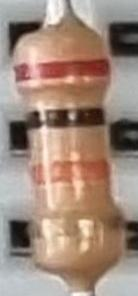Black: (29, 106, 106, 130)
Orange: (33, 160, 110, 187)
Red: (15, 57, 114, 85)
Side-Gold: (31, 215, 127, 239)
